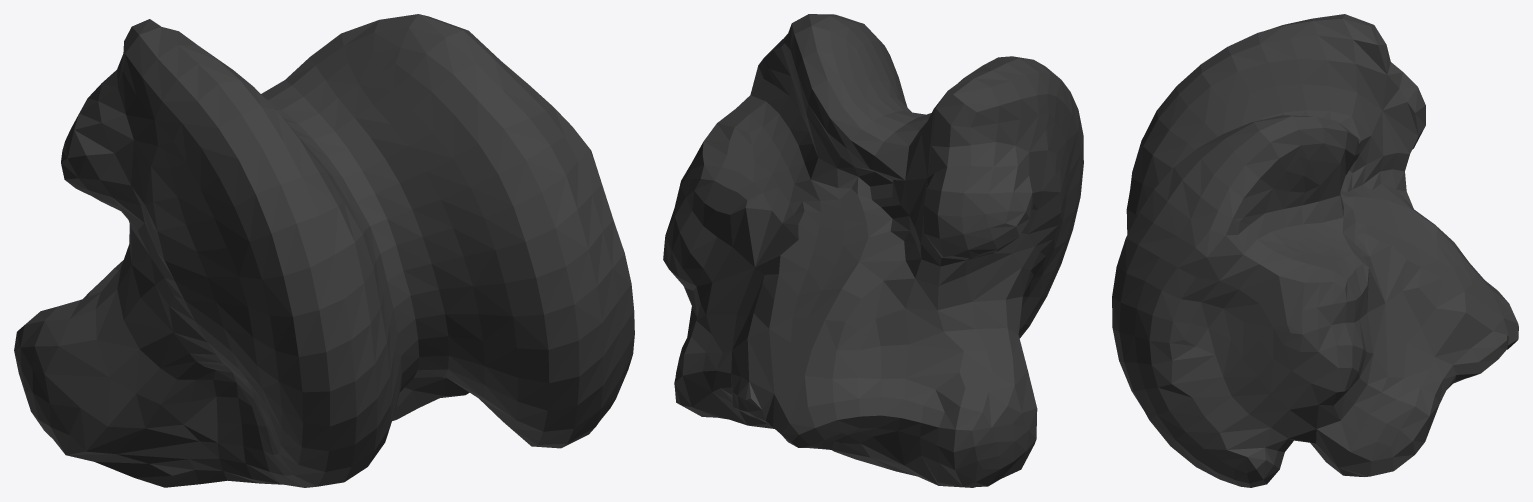
Rendered from Talus_L.glb.
3 renders of one model, left to right at view 1: azimuth 30°, elevation 25°; view 2: azimuth 150°, elevation 25°; view 3: azimuth 270°, elevation 25°, orthographic. The views are drawn at different scales.
Parts seen in each view (by area): view 1: Talus_L; view 2: Talus_L; view 3: Talus_L.
Boxes of the visible parts, x1,y1,x2,y2 form: Talus_L: [14, 14, 634, 487]; Talus_L: [663, 14, 1083, 487]; Talus_L: [1112, 14, 1518, 487].
Size of the model in its own units: 0.1018 by 0.0951 by 0.0981.
1 material, 1 textured.
